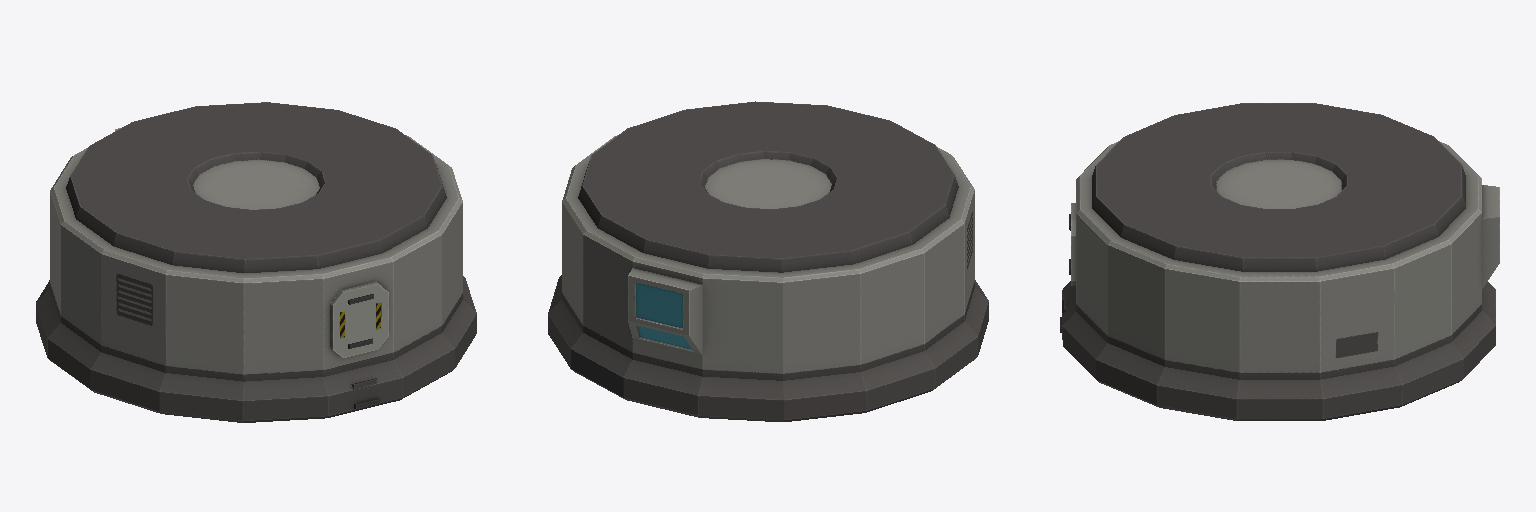
The picture shows the model from 3 angles: view 1: azimuth 30°, elevation 25°; view 2: azimuth 150°, elevation 25°; view 3: azimuth 270°, elevation 25°; orthographic projection.
Visible parts, largest first — view 1: Mk2LanderCan_mesh; view 2: Mk2LanderCan_mesh; view 3: Mk2LanderCan_mesh.
Part boxes in pixels (x1,y1,x2,y2): Mk2LanderCan_mesh: (36,102,476,422); Mk2LanderCan_mesh: (548,101,988,421); Mk2LanderCan_mesh: (1060,103,1499,420).
Size of the model in its own units: 5.8 by 2.23 by 5.89.
1 materials, 1 textured.